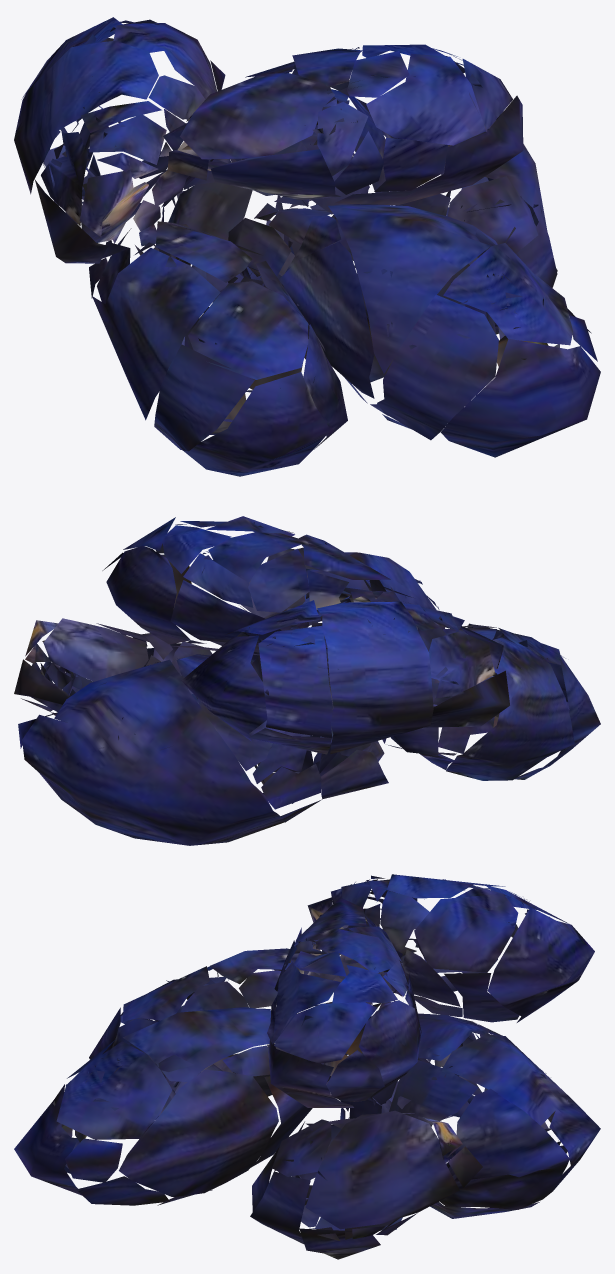
Rendered from mussels_hand_a.glb.
3 views of the same model, one above another, from view 1: azimuth 30°, elevation 25°; view 2: azimuth 150°, elevation 25°; view 3: azimuth 270°, elevation 25° (orthographic). The views are drawn at different scales.
Parts seen in each view (by area): view 1: tripo_node_de2410f5-05ed-44c1-af87-4835e3f957a2; view 2: tripo_node_de2410f5-05ed-44c1-af87-4835e3f957a2; view 3: tripo_node_de2410f5-05ed-44c1-af87-4835e3f957a2.
Boxes of the visible parts, x1,y1,x2,y2 form: tripo_node_de2410f5-05ed-44c1-af87-4835e3f957a2: [14, 17, 600, 476]; tripo_node_de2410f5-05ed-44c1-af87-4835e3f957a2: [14, 516, 600, 845]; tripo_node_de2410f5-05ed-44c1-af87-4835e3f957a2: [14, 874, 600, 1259].
Bounding box in the file's own units: 0.8494 × 0.5002 × 1.01.
Materials: 1 (1 with a texture image).
